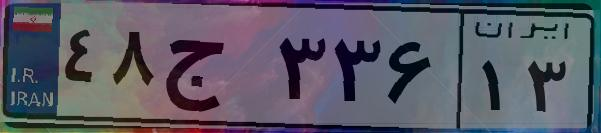1: (475, 38, 525, 113)
3: (270, 28, 330, 110), (330, 28, 385, 110), (525, 38, 570, 115)
4: (57, 26, 110, 100)
6: (385, 28, 445, 110)
8: (110, 28, 158, 98)
ج: (158, 20, 270, 120)
